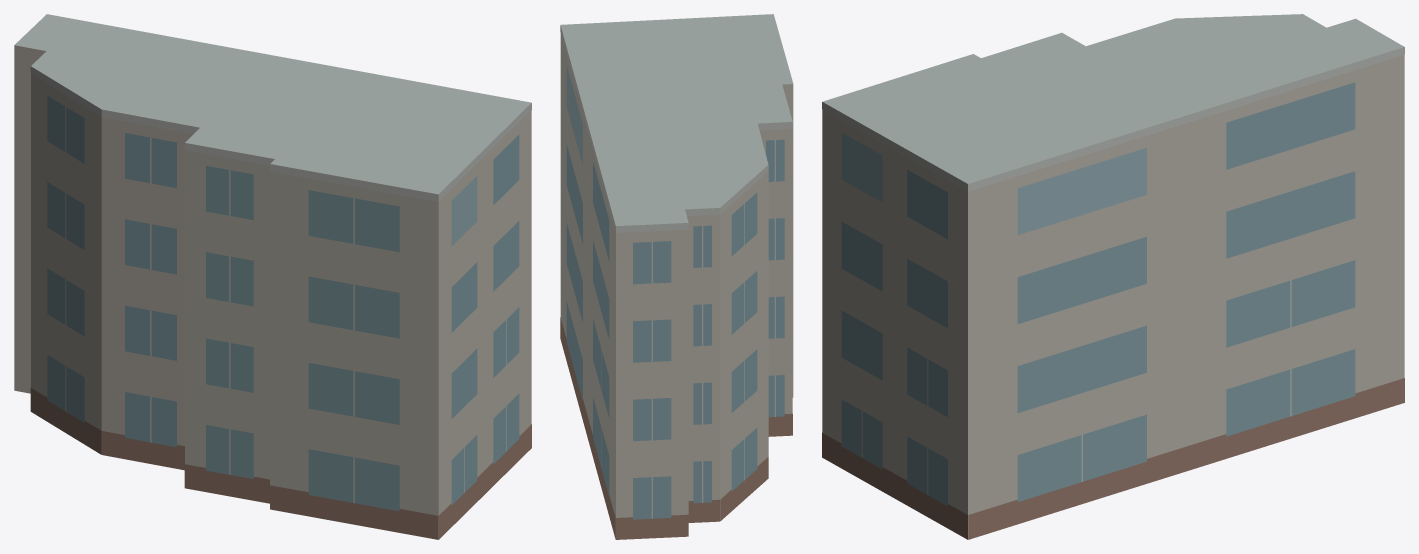
File: survey-upis-33001790.glb
The picture shows the model from 3 angles, left to right: view 1: azimuth 30°, elevation 25°; view 2: azimuth 150°, elevation 25°; view 3: azimuth 270°, elevation 25°; orthographic projection. The views are drawn at different scales.
Visible parts, largest first — view 1: survey-upis-33001790.tmp; view 2: survey-upis-33001790.tmp; view 3: survey-upis-33001790.tmp.
Boxes of the visible parts, x1,y1,x2,y2 form: survey-upis-33001790.tmp: [14, 14, 531, 539]; survey-upis-33001790.tmp: [560, 14, 793, 539]; survey-upis-33001790.tmp: [822, 14, 1404, 539].
Size of the model in its own units: 11.49 by 11.2 by 16.63.
